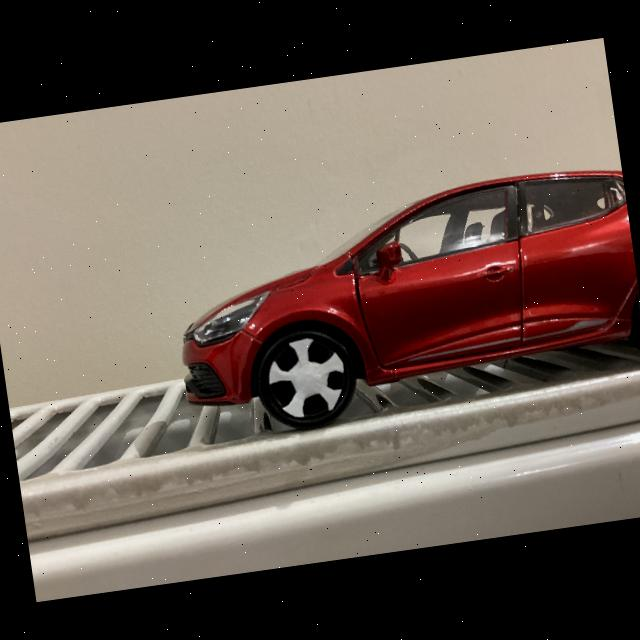Yanlis_Jant: (262, 334, 352, 424)
